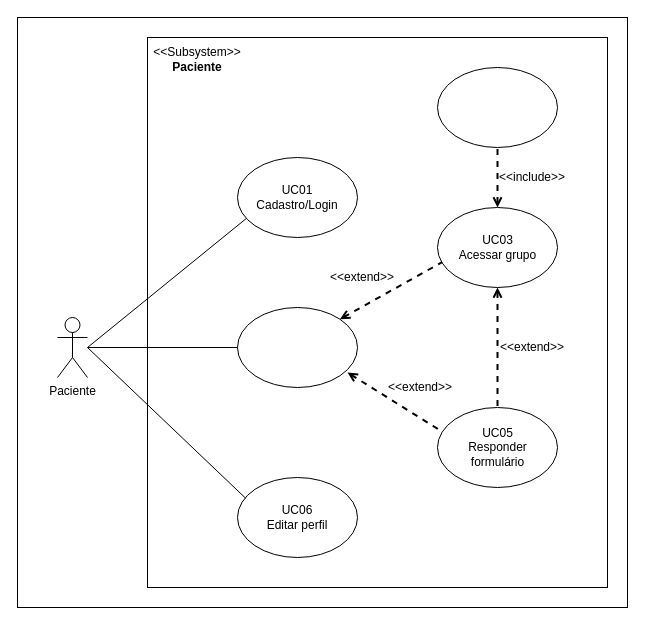
Image size: 645x625. Some labels were removed from this diagram. The centre of each missing label's shape, as x and y in pixels:
UC02 Visualizar lista de grupos: (x=297, y=347)
UC04 Visualizar informações do grupo: (x=497, y=107)
